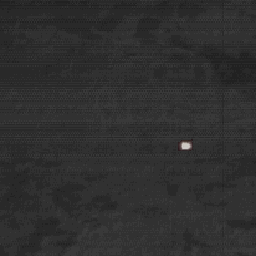Target: (179, 139, 190, 151)
